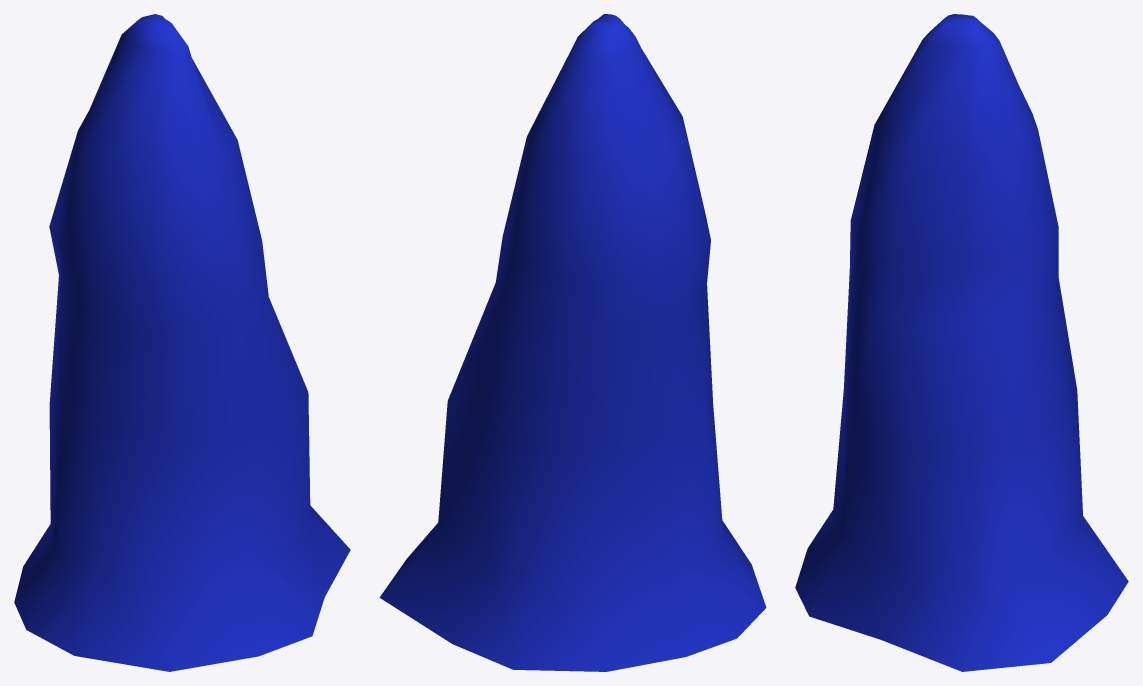
The model's file is Stalagmites_Small_1.obj.
3 renders of one model, left to right at view 1: azimuth 30°, elevation 25°; view 2: azimuth 150°, elevation 25°; view 3: azimuth 270°, elevation 25°, orthographic. The views are drawn at different scales.
Visible parts, largest first — view 1: Stalagmite_Small_1; view 2: Stalagmite_Small_1; view 3: Stalagmite_Small_1.
Part boxes in pixels (bbox=[...]): Stalagmite_Small_1: bbox=[14, 14, 350, 671]; Stalagmite_Small_1: bbox=[379, 14, 766, 671]; Stalagmite_Small_1: bbox=[795, 14, 1128, 671].
Bounding box in the file's own units: 0.651 × 1.11 × 0.5963.
